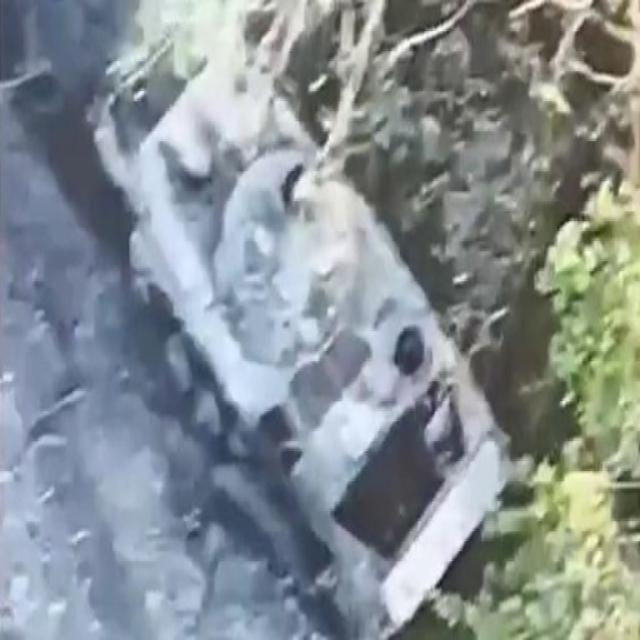APC-IFV: (75, 16, 510, 631)
